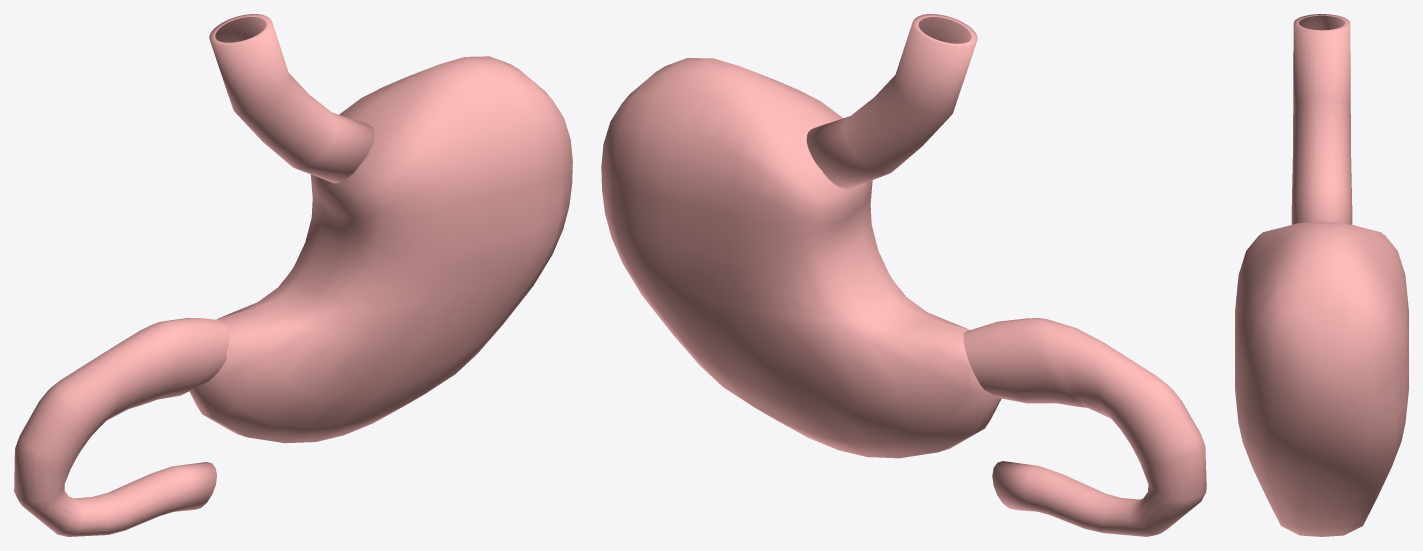
Rendered from Estomago.fbx.
3 renders of one model, left to right at view 1: azimuth 30°, elevation 25°; view 2: azimuth 150°, elevation 25°; view 3: azimuth 270°, elevation 25°, orthographic. The views are drawn at different scales.
Visible parts, largest first — view 1: Cilindro.001; view 2: Cilindro.001; view 3: Cilindro.001.
Boxes of the visible parts, x1=… form: Cilindro.001: x1=14, y1=14, x2=572, y2=536; Cilindro.001: x1=601, y1=14, x2=1206, y2=536; Cilindro.001: x1=1235, y1=14, x2=1408, y2=536.
Bounding box in the file's own units: 63.76 × 50.65 × 16.23.
